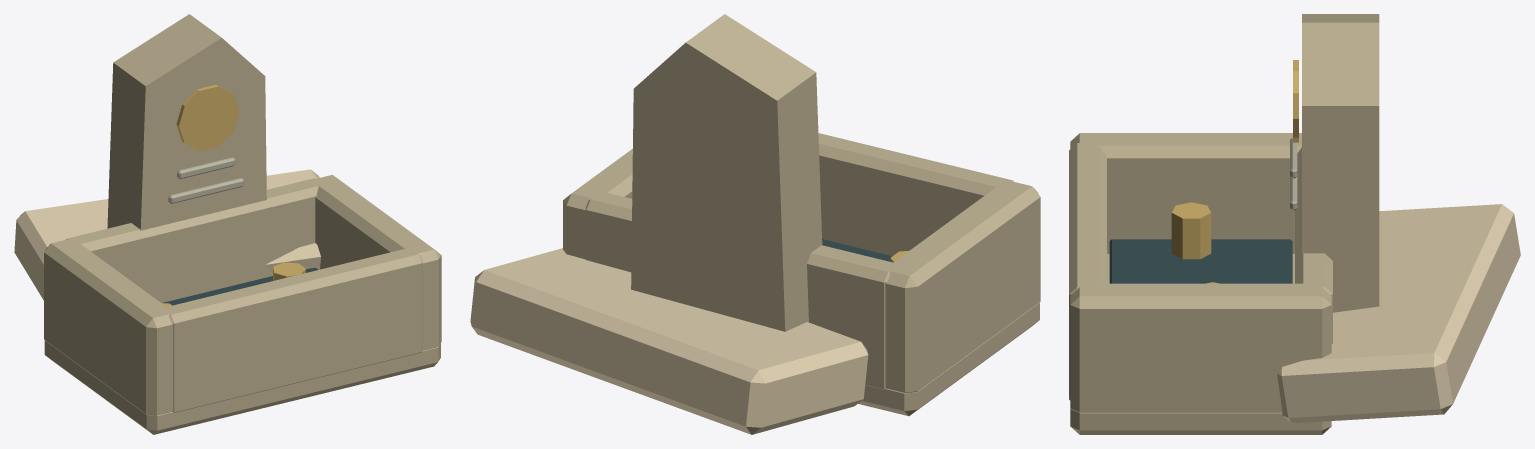
Rendered from site-antiquity.glb.
The picture shows the model from 3 angles, left to right: view 1: azimuth 30°, elevation 25°; view 2: azimuth 150°, elevation 25°; view 3: azimuth 270°, elevation 25°; orthographic projection. The views are drawn at different scales.
Visible parts, largest first — view 1: Cube; view 2: Cube; view 3: Cube.
Part boxes in pixels (x1,y1,x2,y2): Cube: [14, 14, 441, 434]; Cube: [470, 14, 1040, 434]; Cube: [1069, 14, 1520, 434].
Size of the model in its own units: 0.3725 by 0.319 by 0.3802.
